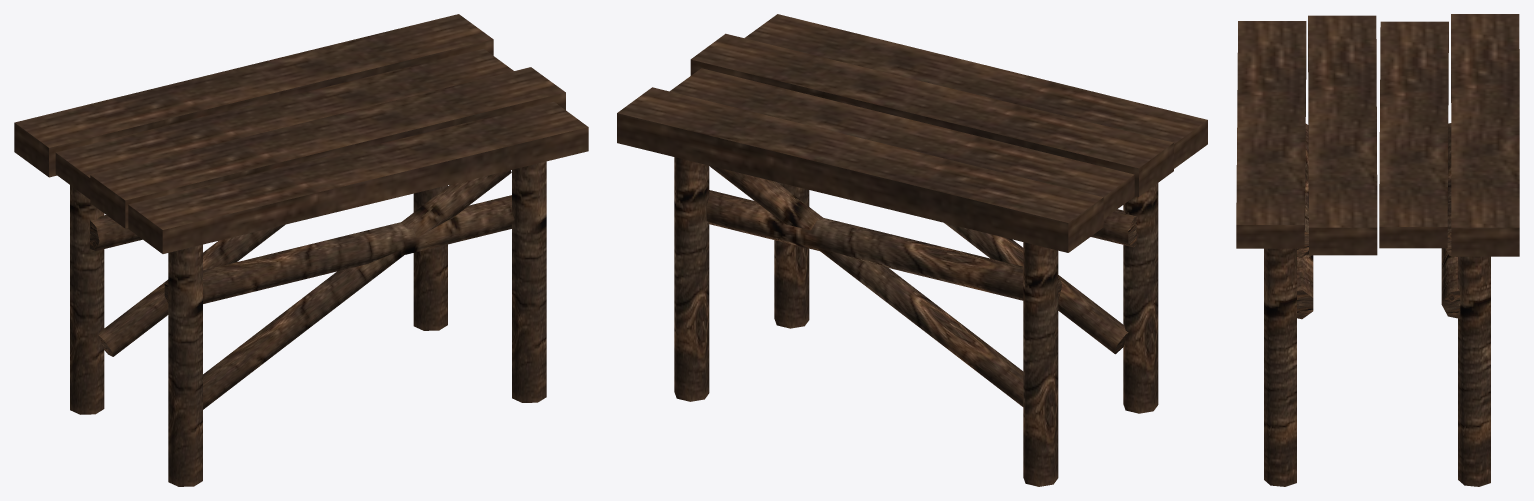
Rendered from table.glb.
3 renders of one model, left to right at view 1: azimuth 30°, elevation 25°; view 2: azimuth 150°, elevation 25°; view 3: azimuth 270°, elevation 25°, orthographic. The views are drawn at different scales.
Visible parts, largest first — view 1: part_0; view 2: part_0; view 3: part_0.
Boxes of the visible parts, x1=… form: part_0: x1=14, y1=14, x2=588, y2=486; part_0: x1=617, y1=14, x2=1207, y2=486; part_0: x1=1236, y1=14, x2=1519, y2=486.
Bounding box in the file's own units: 1.19 × 0.7182 × 0.6666.
1 material, 1 textured.
